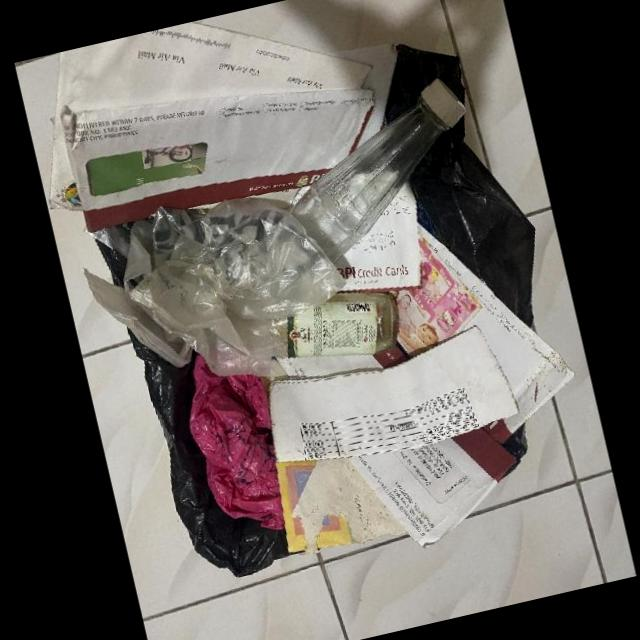chai_thuy_tinh: (289, 78, 466, 263), (289, 289, 399, 357)
giay: (48, 21, 371, 208), (338, 219, 577, 443), (61, 88, 373, 234), (268, 324, 518, 463), (349, 425, 519, 546), (275, 457, 407, 552), (335, 185, 420, 290)
tui_ni_long: (83, 199, 350, 378), (188, 354, 283, 531)
